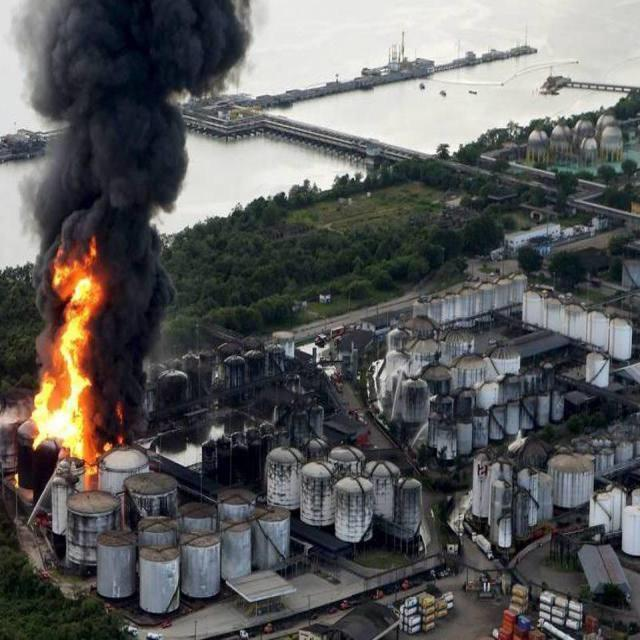Fire: (24, 227, 122, 463)
